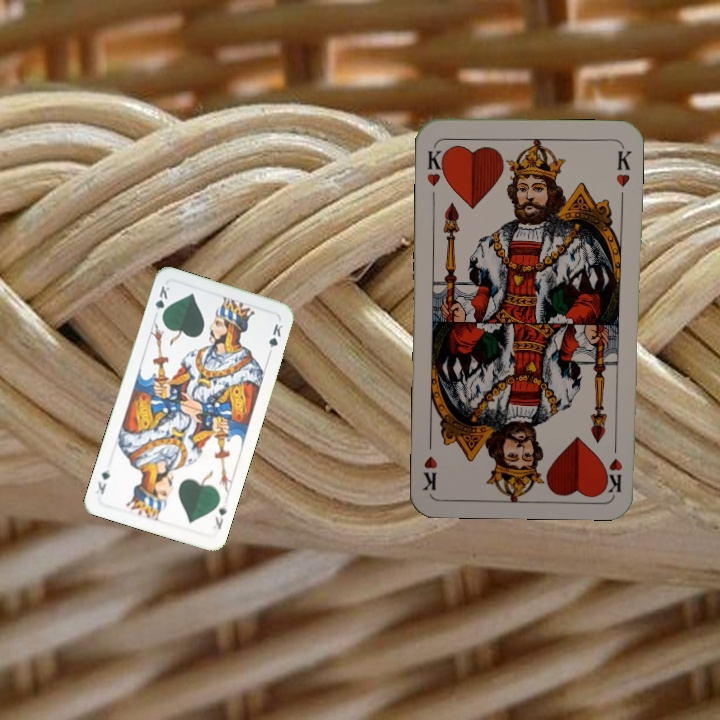GK: (151, 282, 172, 321), (211, 500, 229, 532)
HK: (603, 435, 625, 494), (423, 142, 449, 188)
